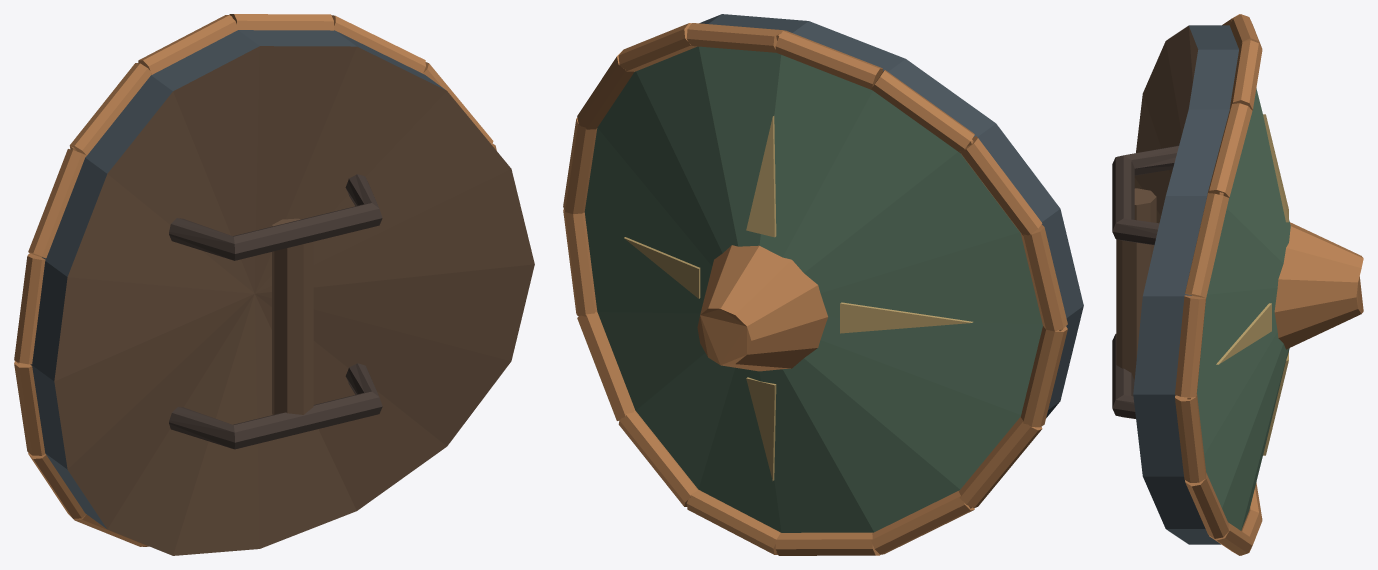
File: AEW_Shield_SunkenRound.fbx
3 renders of one model, left to right at view 1: azimuth 30°, elevation 25°; view 2: azimuth 150°, elevation 25°; view 3: azimuth 270°, elevation 25°, orthographic. The views are drawn at different scales.
Parts seen in each view (by area): view 1: AEW_Shield_SunkenRound; view 2: AEW_Shield_SunkenRound; view 3: AEW_Shield_SunkenRound.
Part boxes in pixels (box(x1,y1,x2,y2)): AEW_Shield_SunkenRound: box(14, 14, 534, 555); AEW_Shield_SunkenRound: box(563, 14, 1083, 555); AEW_Shield_SunkenRound: box(1112, 14, 1363, 555).
Bounding box in the file's own units: 0.8334 × 0.8353 × 0.3872.
